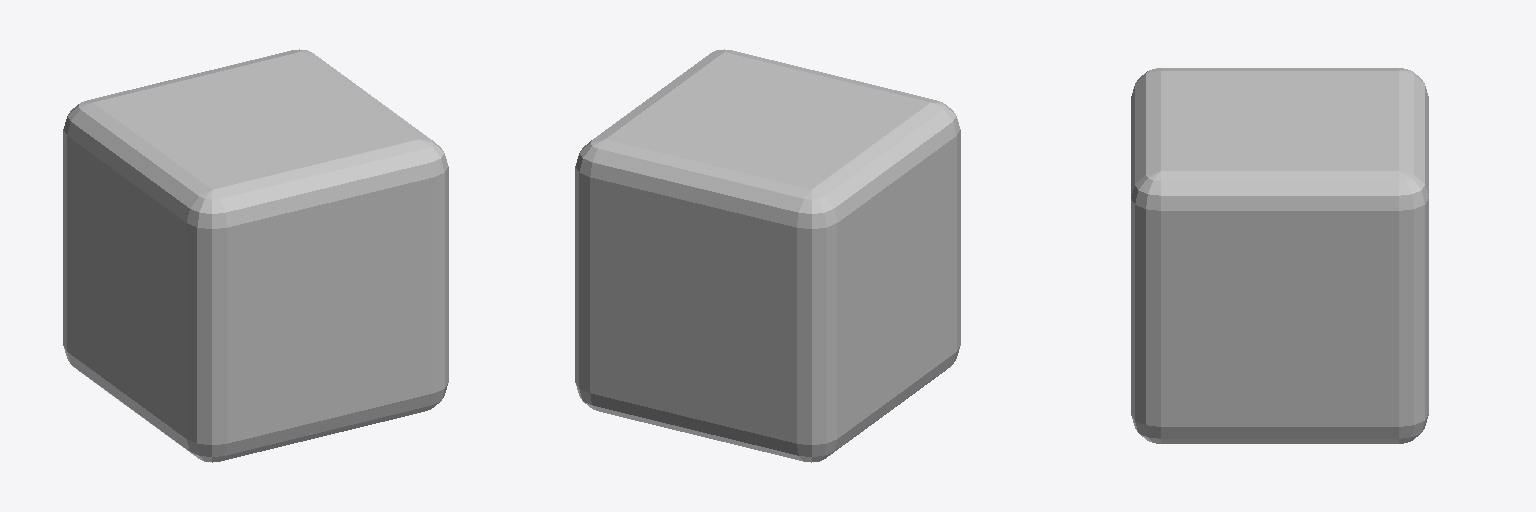
Rendered from blockSnowRoundedobj.obj.
The picture shows the model from 3 angles: view 1: azimuth 30°, elevation 25°; view 2: azimuth 150°, elevation 25°; view 3: azimuth 270°, elevation 25°; orthographic projection.
Parts seen in each view (by area): view 1: mesh_1, mesh_0; view 2: mesh_1, mesh_0; view 3: mesh_0, mesh_1.
Boxes of the visible parts, box(x1,y1,x2,y2) form: mesh_1: box(63, 184, 448, 462); mesh_0: box(63, 49, 448, 282); mesh_1: box(575, 184, 960, 462); mesh_0: box(575, 49, 960, 282); mesh_0: box(1131, 68, 1428, 264); mesh_1: box(1131, 253, 1428, 443).
Size of the model in its own units: 2.12 by 2.12 by 2.12.